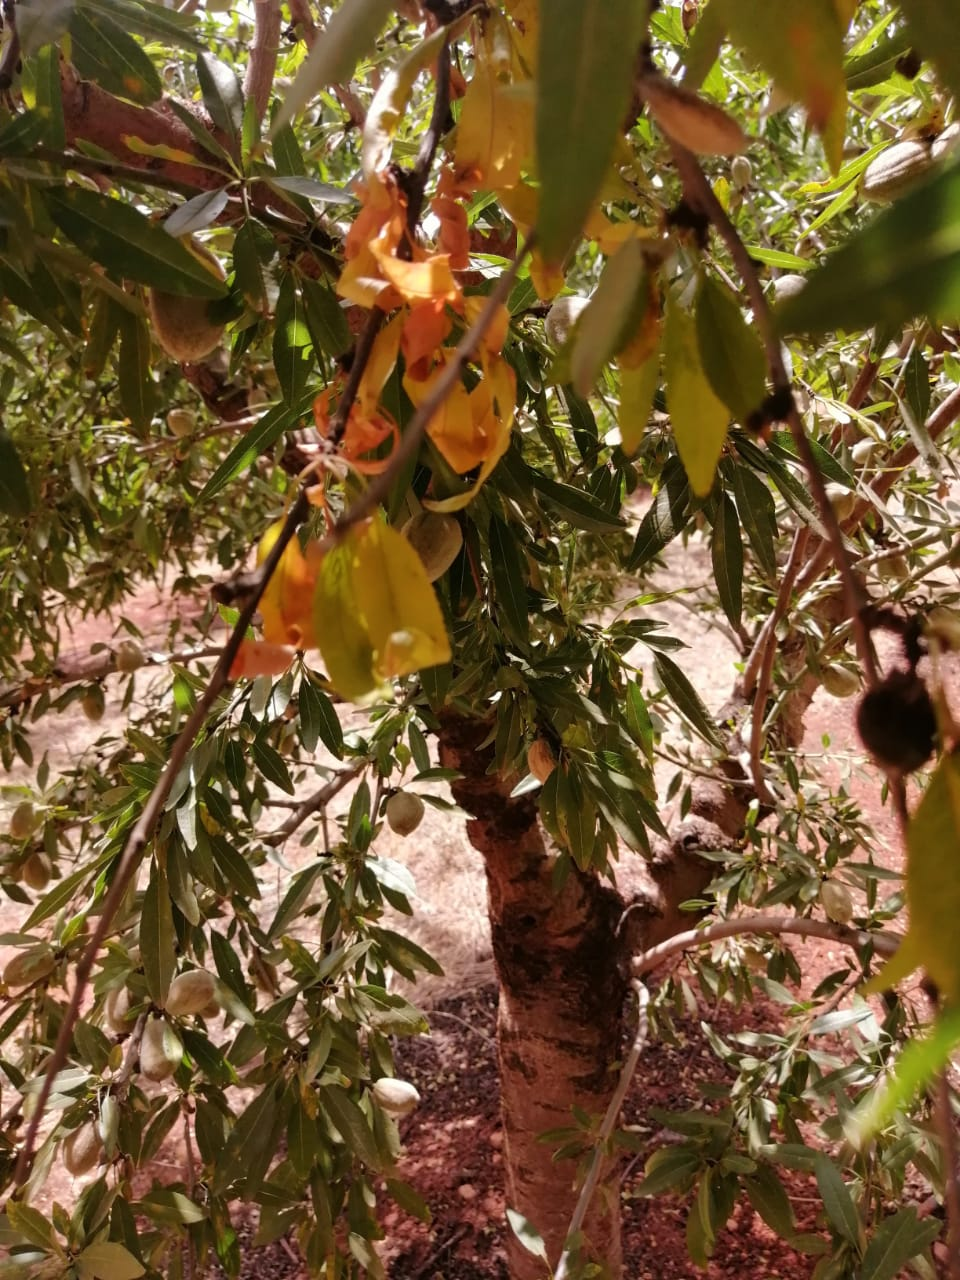chancre fusicocum: (196, 154, 518, 696)
